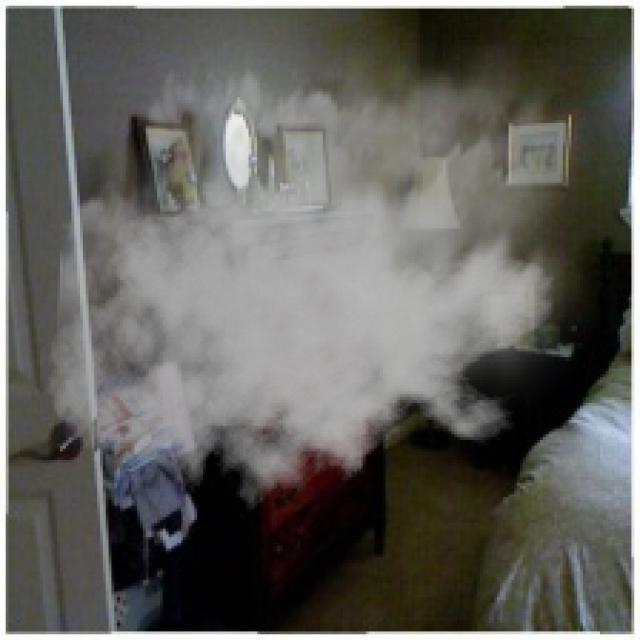Smoke: (45, 8, 606, 526)
